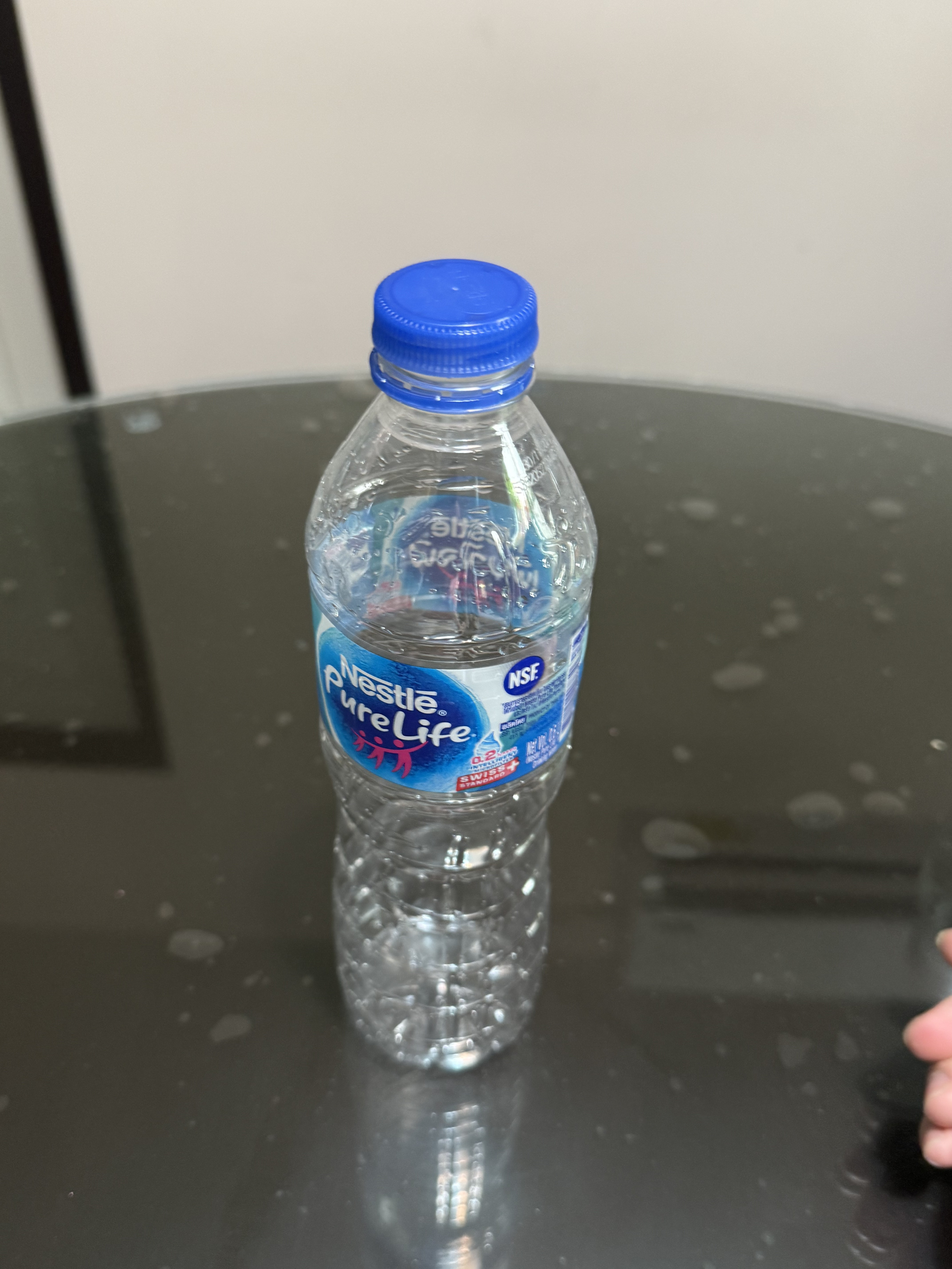half_cap: (364, 253, 543, 410)
